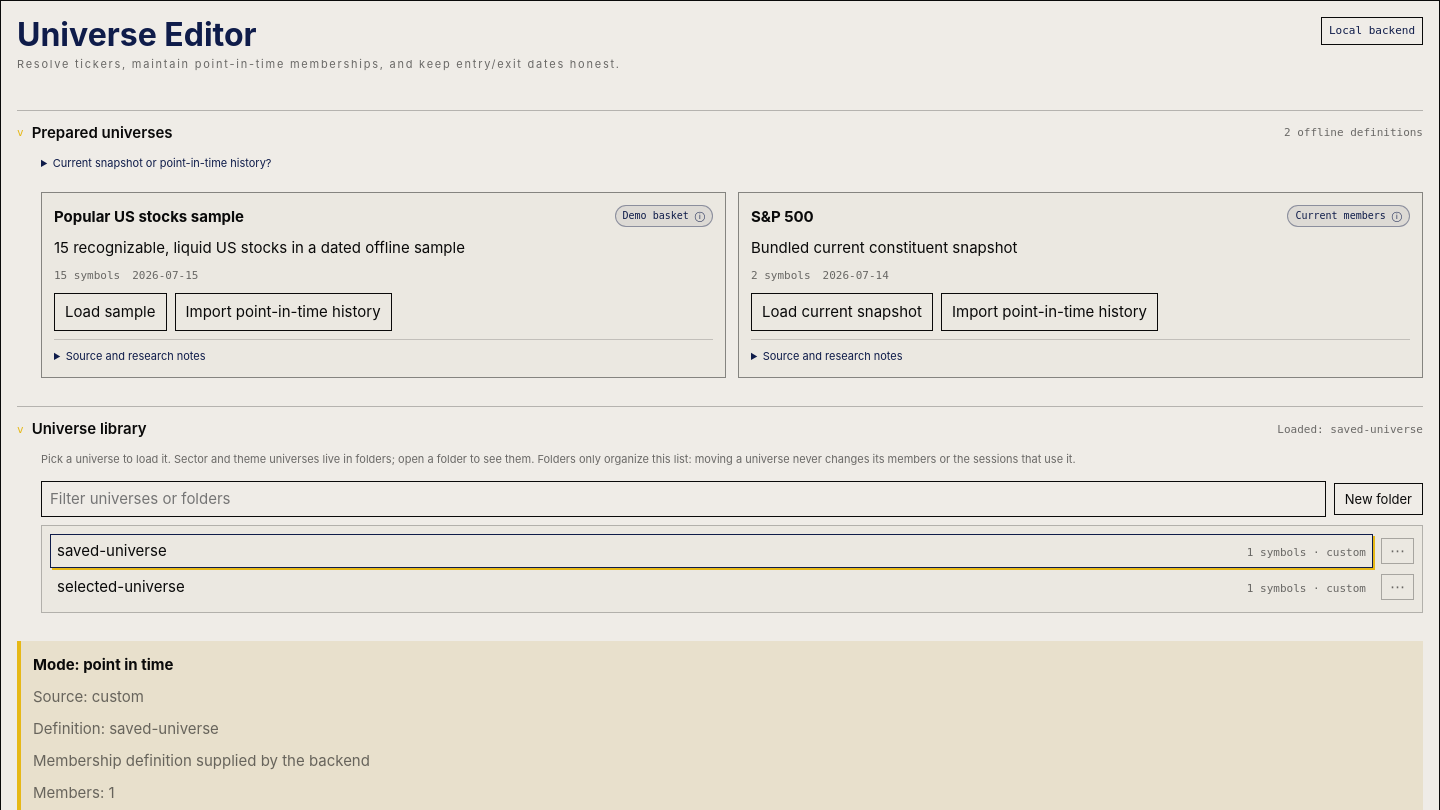
UniverseEditorPage › does not let saved-draft hydration replace a universe selected after reopen
What coordinates should you click on to do the following:
click the button with aria-label "Load selected-universe"
I would click on:
 (121, 586)
Its box is [50, 570, 1373, 604].
(page scrolled)
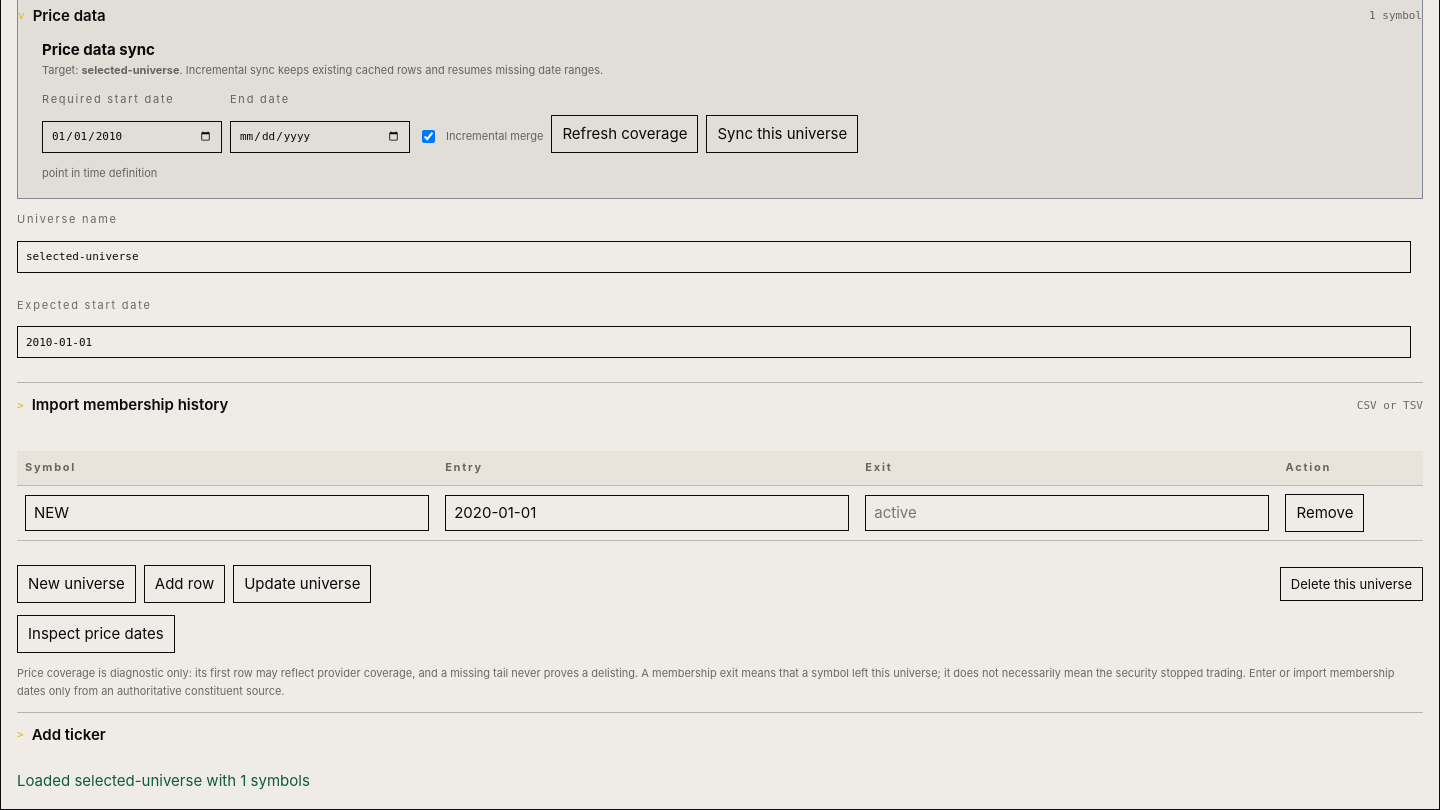
Now the field labelled "Universe name" holds "selected-universe", box [17, 241, 1411, 273]
Now the field named "symbol-0" holds "NEW", box [25, 495, 429, 531]
